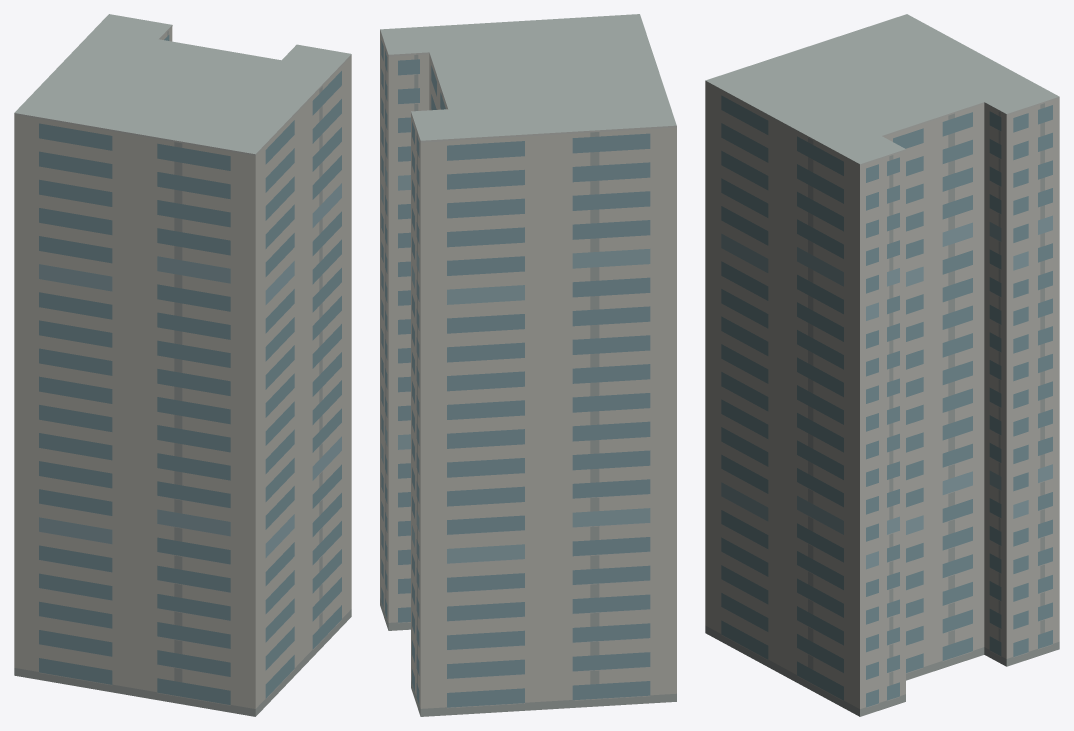
Rendered from residential-c5889a40-9a2c-4b5c-a53c-9751bb7fa0bb.glb.
3 renders of one model, left to right at view 1: azimuth 30°, elevation 25°; view 2: azimuth 150°, elevation 25°; view 3: azimuth 270°, elevation 25°, orthographic. The views are drawn at different scales.
Visible parts, largest first — view 1: residential-c5889a40-9a2c-4b5c-a53c-9751bb7fa0bb.tmp; view 2: residential-c5889a40-9a2c-4b5c-a53c-9751bb7fa0bb.tmp; view 3: residential-c5889a40-9a2c-4b5c-a53c-9751bb7fa0bb.tmp.
Part boxes in pixels (box(x1,y1,x2,y2)): residential-c5889a40-9a2c-4b5c-a53c-9751bb7fa0bb.tmp: box(14, 14, 351, 716); residential-c5889a40-9a2c-4b5c-a53c-9751bb7fa0bb.tmp: box(380, 14, 676, 716); residential-c5889a40-9a2c-4b5c-a53c-9751bb7fa0bb.tmp: box(705, 14, 1059, 716).
Bounding box in the file's own units: 49.59 × 85 × 49.4.
